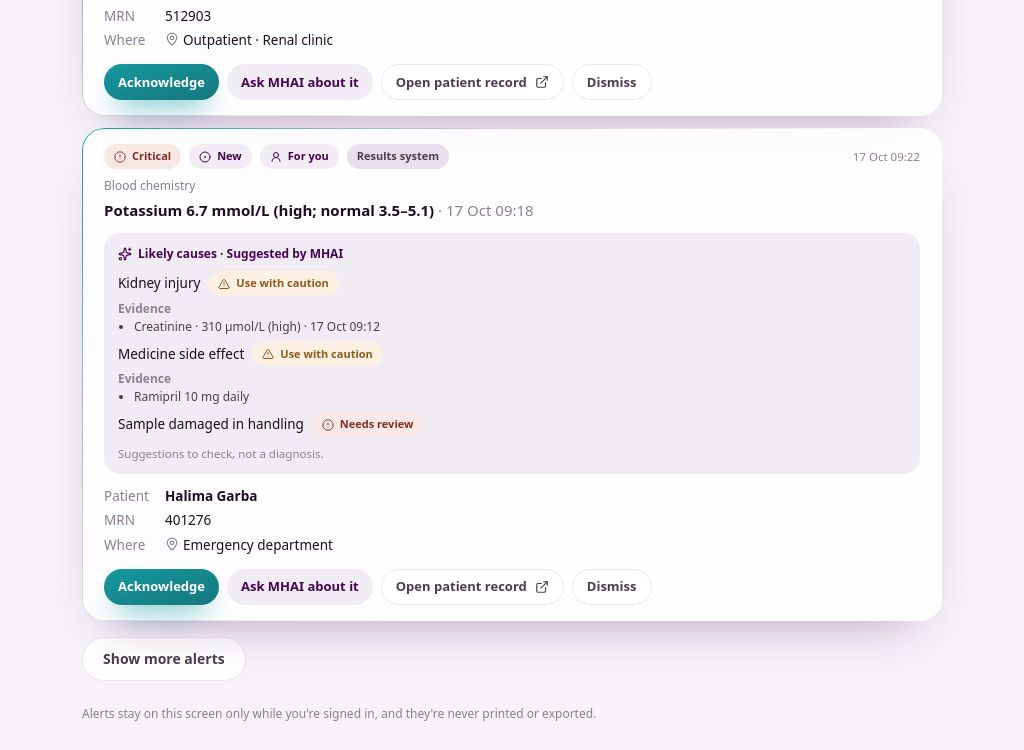
Notifications: Patient alerts › shows more with the cursor
(page scrolled)
Click the button "Show more alerts": (164, 659) [82, 637, 246, 681]
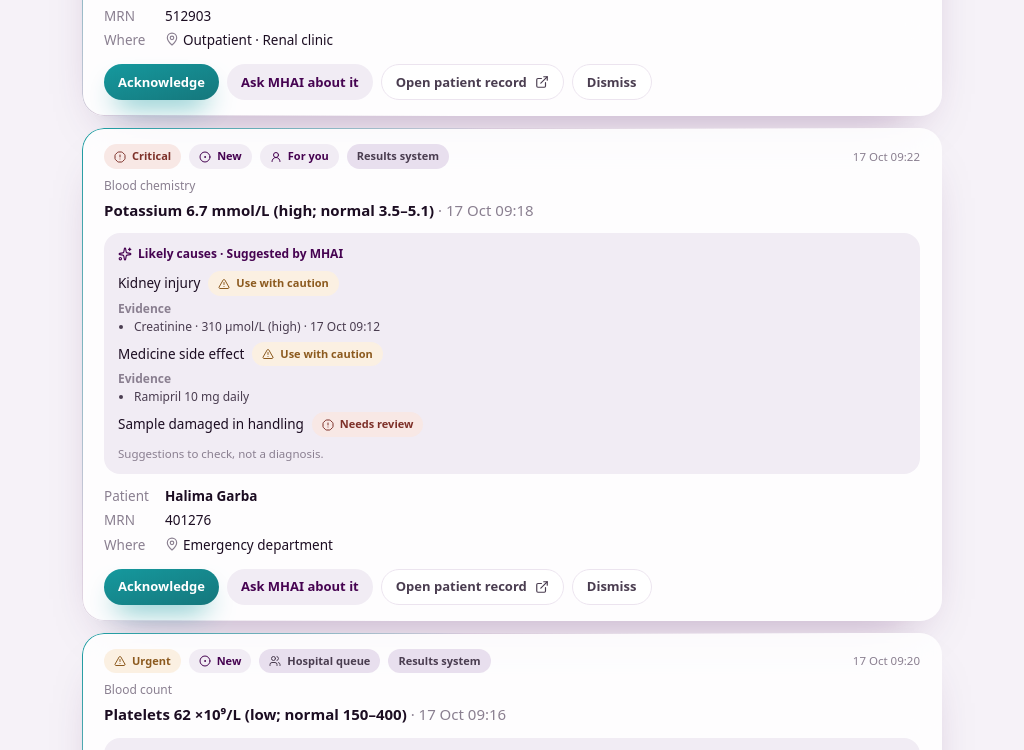
Now the button "Show more alerts" is gone
